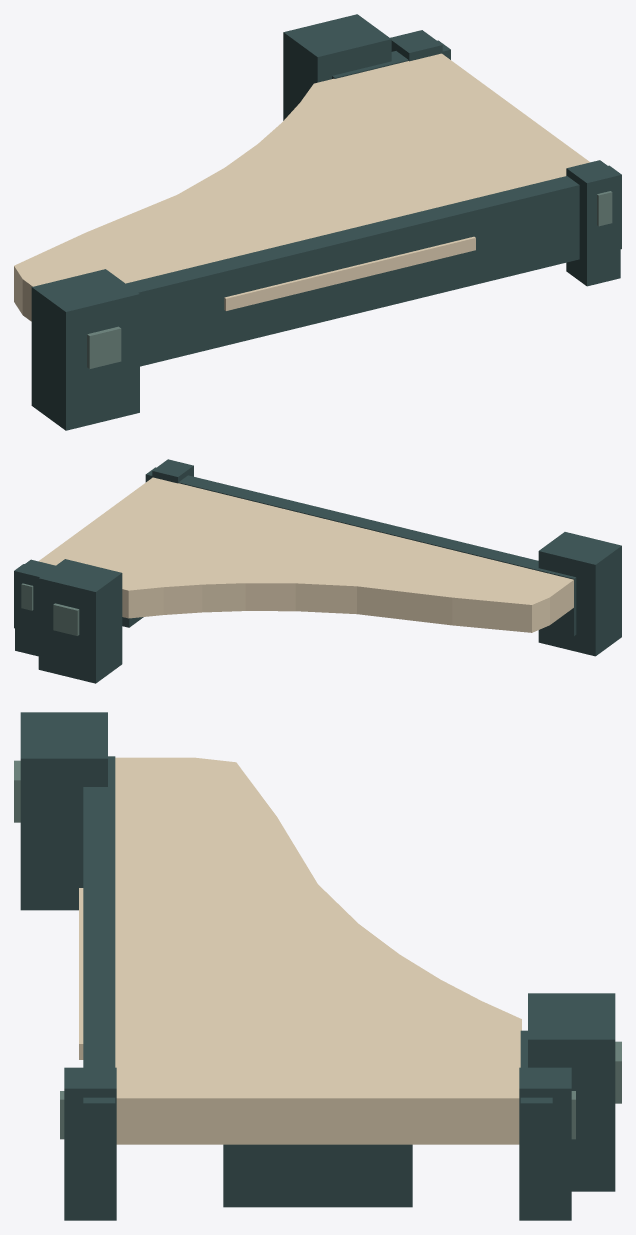
File: Pier_Angled_70_lab2.glb
The picture shows the model from 3 angles, top to bottom: view 1: azimuth 30°, elevation 25°; view 2: azimuth 150°, elevation 25°; view 3: azimuth 270°, elevation 25°; orthographic projection. The views are drawn at different scales.
Visible parts, largest first — view 1: Pier_Angled_70; view 2: Pier_Angled_70; view 3: Pier_Angled_70.
Boxes of the visible parts, x1,y1,x2,y2 form: Pier_Angled_70: (14,14,621,430); Pier_Angled_70: (14,459,621,683); Pier_Angled_70: (14,712,621,1220).
Bounding box in the file's own units: 5.88 × 1.15 × 4.17.
